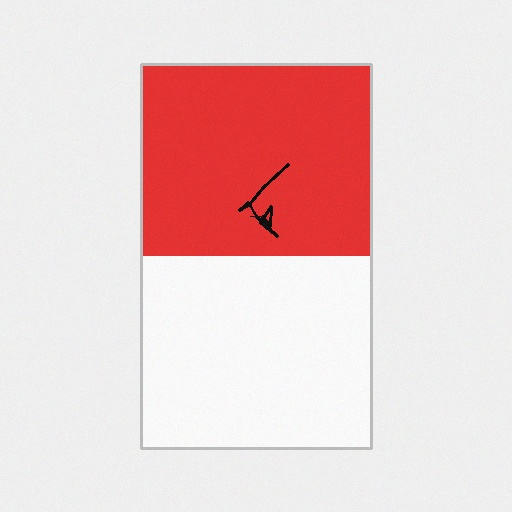crack: (235, 160, 292, 240)
